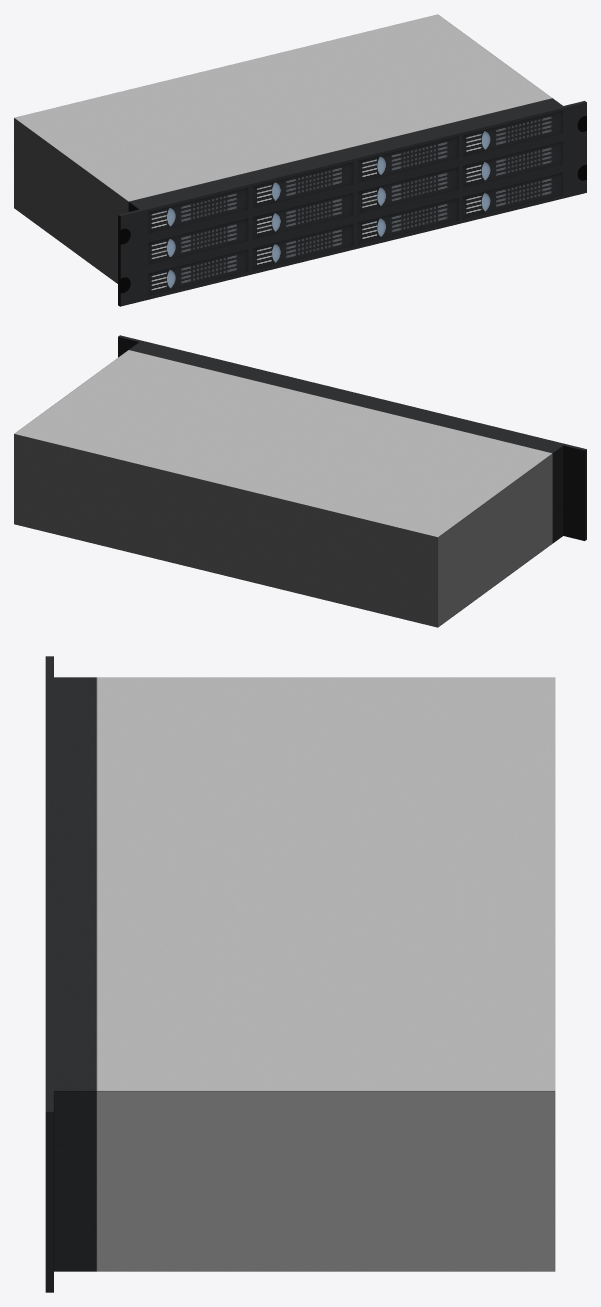
The model's file is sjsb.obj.
3 views of the same model, one above another, from view 1: azimuth 30°, elevation 25°; view 2: azimuth 150°, elevation 25°; view 3: azimuth 270°, elevation 25° (orthographic). The views are drawn at different scales.
Parts seen in each view (by area): view 1: Line066; view 2: Line066; view 3: Line066.
Boxes of the visible parts, left/top/right/bottom form: Line066: left=14, top=14, right=586, bottom=306; Line066: left=14, top=335, right=586, bottom=627; Line066: left=45, top=656, right=555, bottom=1292.
Size of the model in its own units: 1212 by 224 by 573.
1 material, 1 textured.
